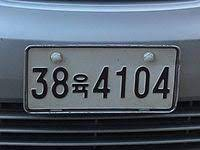car: (22, 43, 179, 114)
